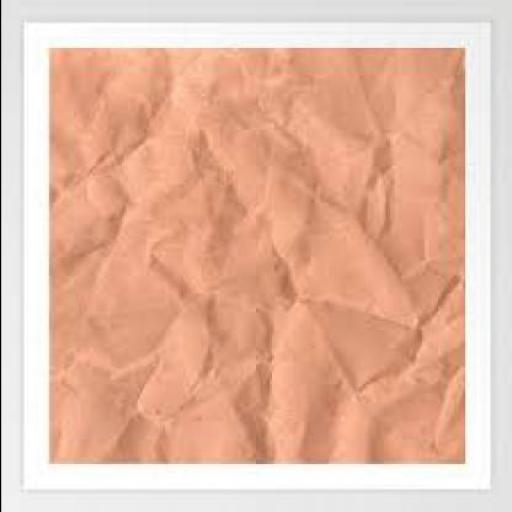paper: (41, 50, 462, 469)
